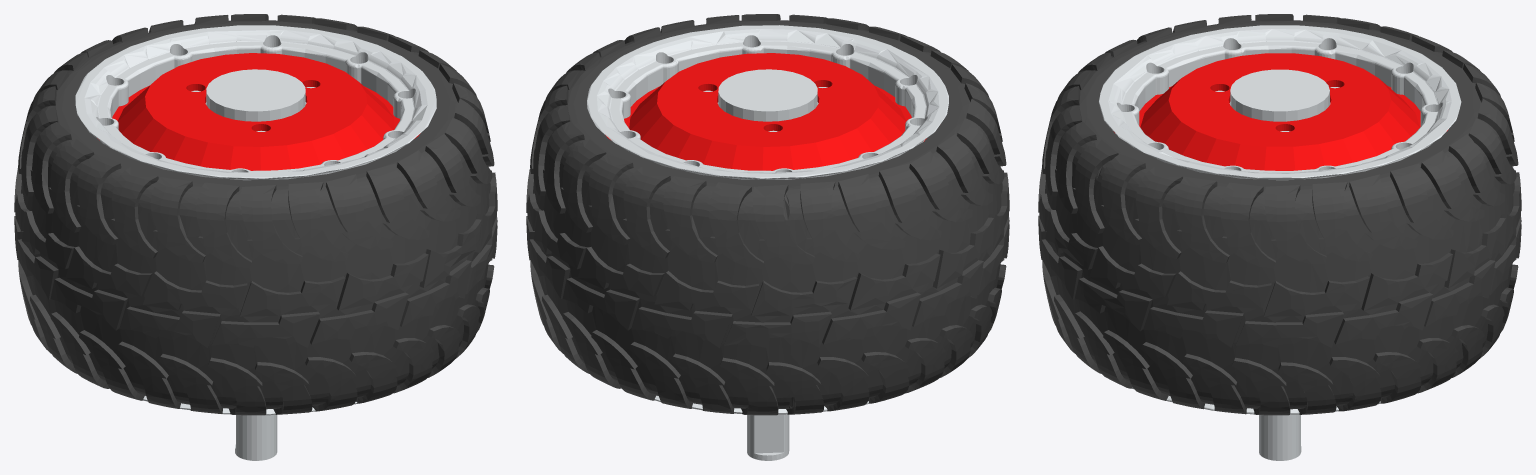
File: wheel.dae
3 renders of one model, left to right at view 1: azimuth 30°, elevation 25°; view 2: azimuth 150°, elevation 25°; view 3: azimuth 270°, elevation 25°, orthographic.
Parts seen in each view (by area): view 1: node4, node1, node3, node6; view 2: node4, node1, node3, node6; view 3: node4, node1, node3, node6.
Boxes of the visible parts, box(x1,y1,x2,y2) form: node4: box(14, 14, 497, 415); node1: box(97, 53, 420, 170); node3: box(75, 25, 436, 180); node6: box(191, 69, 315, 460); node4: box(526, 14, 1009, 415); node1: box(605, 53, 926, 170); node3: box(587, 25, 948, 179); node6: box(703, 69, 827, 460); node4: box(1038, 14, 1521, 415); node1: box(1113, 53, 1448, 170); node3: box(1098, 25, 1461, 180); node6: box(1215, 69, 1339, 460).
Bounding box in the file's own units: 0.1599 × 0.16 × 0.132.
